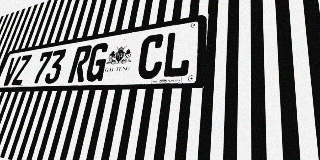3: (43, 49, 67, 84)
7: (30, 51, 53, 84)
C: (136, 33, 166, 79)
G: (84, 42, 111, 82)
L: (161, 29, 193, 78)
R: (67, 45, 93, 83)
V: (1, 56, 21, 86)
Z: (11, 54, 32, 85)
